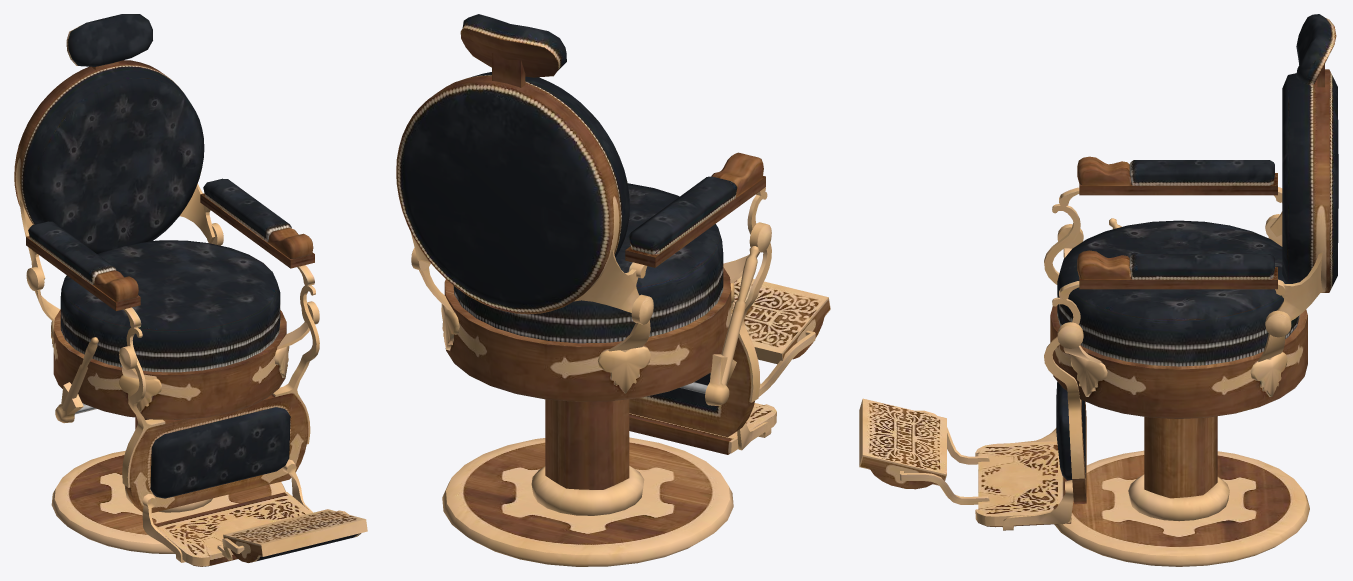
Rendered from barbershopchair_01.glb.
3 views of the same model, side by side, from view 1: azimuth 30°, elevation 25°; view 2: azimuth 150°, elevation 25°; view 3: azimuth 270°, elevation 25° (orthographic). The views are drawn at different scales.
Parts seen in each view (by area): view 1: BarberShopChair_01; view 2: BarberShopChair_01; view 3: BarberShopChair_01.
Boxes of the visible parts, left/top/right/bottom form: BarberShopChair_01: left=14, top=14, right=367, bottom=566; BarberShopChair_01: left=396, top=14, right=830, bottom=566; BarberShopChair_01: left=859, top=14, right=1338, bottom=566.
Size of the model in its own units: 0.7566 by 1.49 by 1.33.
Materials: 1 (1 with a texture image).
